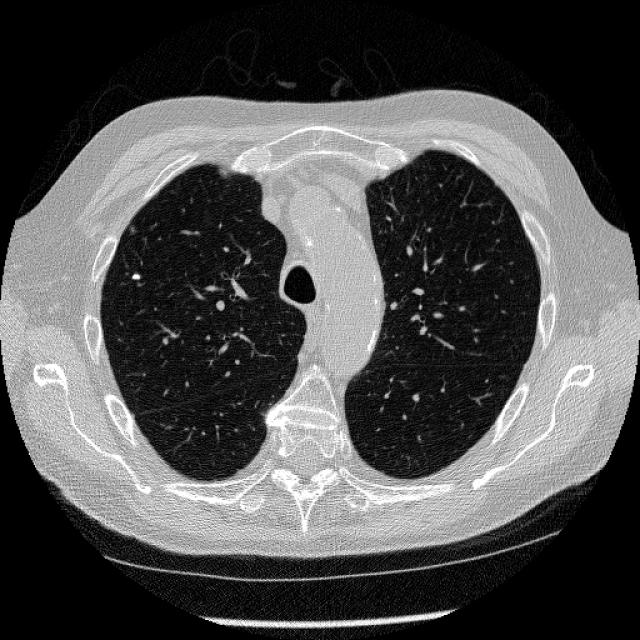nodule: (126, 267, 144, 285)
